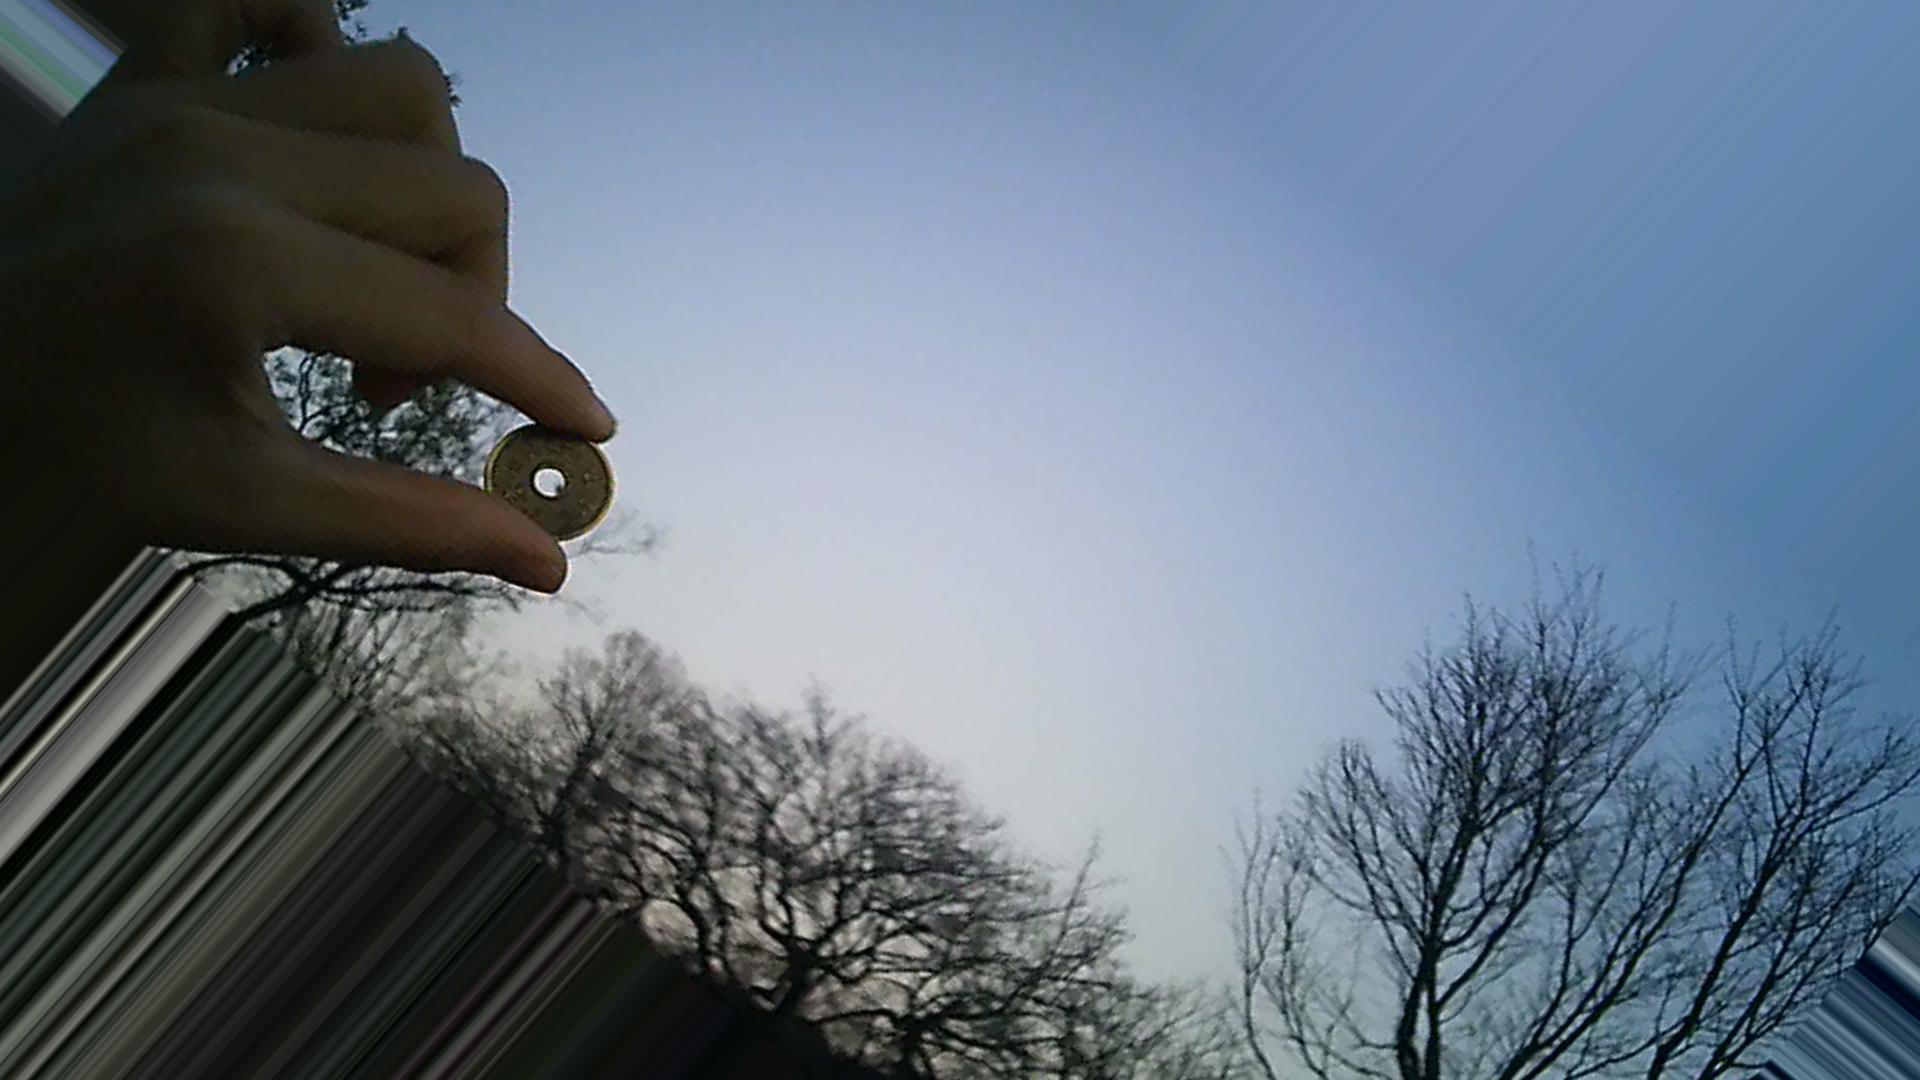5 Yen: (468, 422, 628, 550)
